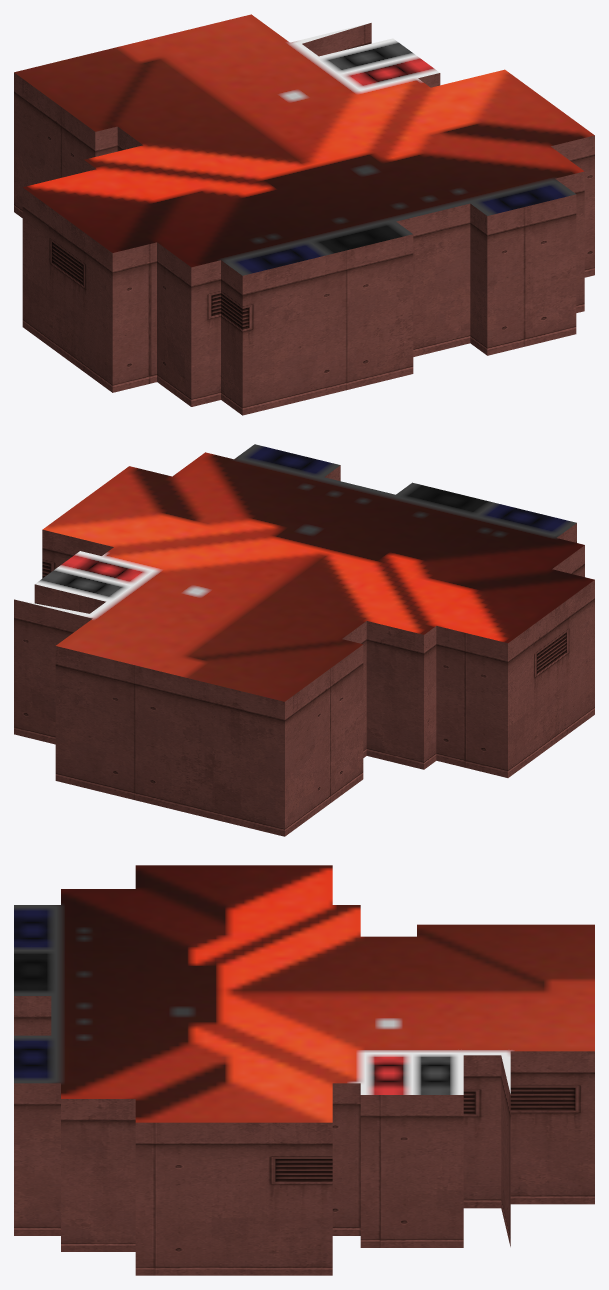
File: BuildingSystem-03-Advance-02-Medium-4-39-02.glb
3 views of the same model, one above another, from view 1: azimuth 30°, elevation 25°; view 2: azimuth 150°, elevation 25°; view 3: azimuth 270°, elevation 25° (orthographic). The views are drawn at different scales.
Visible parts, largest first — view 1: buildings/saxarba/SMV_Buildings/BuildingSystem-03-Advance-02; view 2: buildings/saxarba/SMV_Buildings/BuildingSystem-03-Advance-02; view 3: buildings/saxarba/SMV_Buildings/BuildingSystem-03-Advance-02.
Part boxes in pixels (bbox=[...]): buildings/saxarba/SMV_Buildings/BuildingSystem-03-Advance-02: bbox=[14, 14, 594, 415]; buildings/saxarba/SMV_Buildings/BuildingSystem-03-Advance-02: bbox=[14, 444, 594, 836]; buildings/saxarba/SMV_Buildings/BuildingSystem-03-Advance-02: bbox=[14, 865, 594, 1275].
Size of the model in its own units: 65 by 18 by 62.
